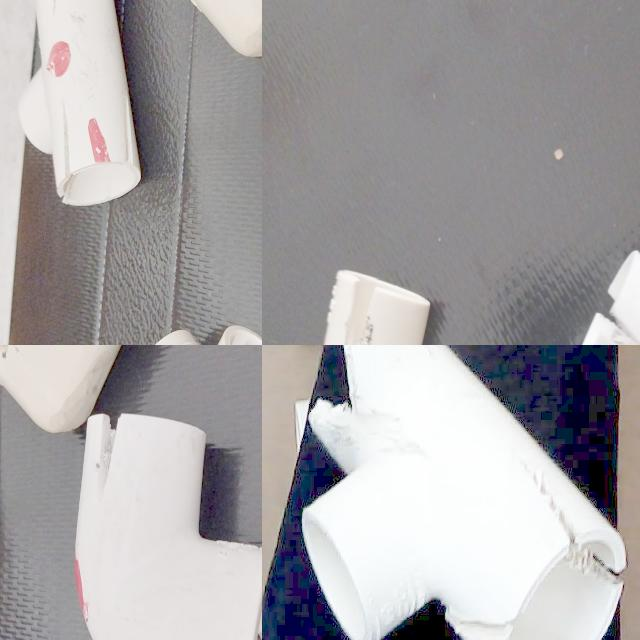Defective: (493, 454, 622, 610), (318, 345, 406, 455), (442, 545, 524, 640), (417, 103, 483, 158), (373, 345, 447, 373), (0, 308, 35, 345), (178, 150, 212, 178), (240, 97, 262, 129)
L Joint: (309, 62, 488, 279), (54, 481, 203, 640)
T Joint: (300, 345, 627, 640), (144, 55, 262, 217), (0, 345, 147, 450), (0, 196, 56, 345), (0, 300, 59, 345)
